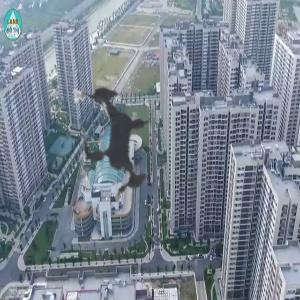drone: (23, 51, 212, 240)
